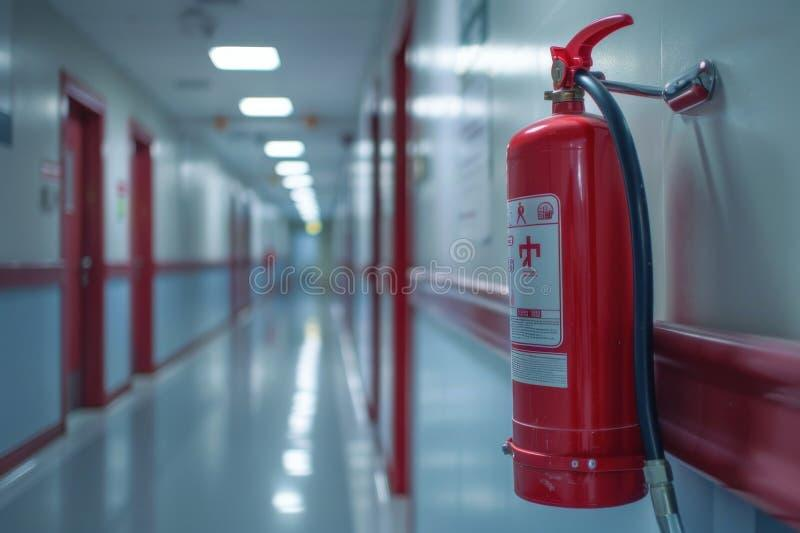wall-mounted: (468, 7, 726, 519)
